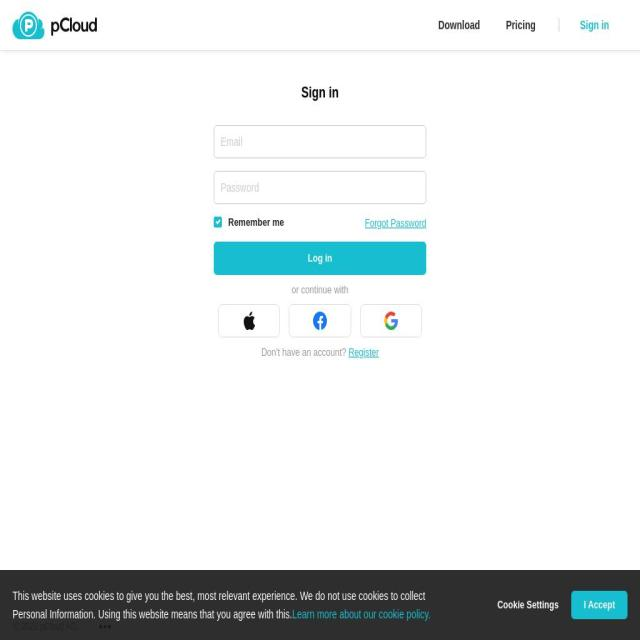button: (214, 242, 426, 275), (12, 4, 138, 46), (484, 591, 572, 619), (571, 591, 628, 619), (558, 18, 628, 32)
field: (214, 125, 426, 158), (214, 171, 426, 204)
image: (13, 4, 125, 46), (368, 304, 421, 336), (228, 304, 280, 336), (298, 304, 350, 336), (92, 611, 117, 640), (214, 217, 219, 224)
link: (438, 18, 481, 32), (506, 18, 536, 32)
text: (13, 589, 425, 621), (214, 84, 426, 102), (214, 283, 426, 296), (292, 607, 431, 621), (261, 346, 346, 358), (497, 598, 559, 611), (364, 217, 426, 229), (228, 216, 284, 228), (38, 621, 76, 632), (583, 598, 615, 611), (348, 346, 379, 358), (307, 252, 332, 264), (21, 621, 39, 632), (14, 621, 21, 632)
